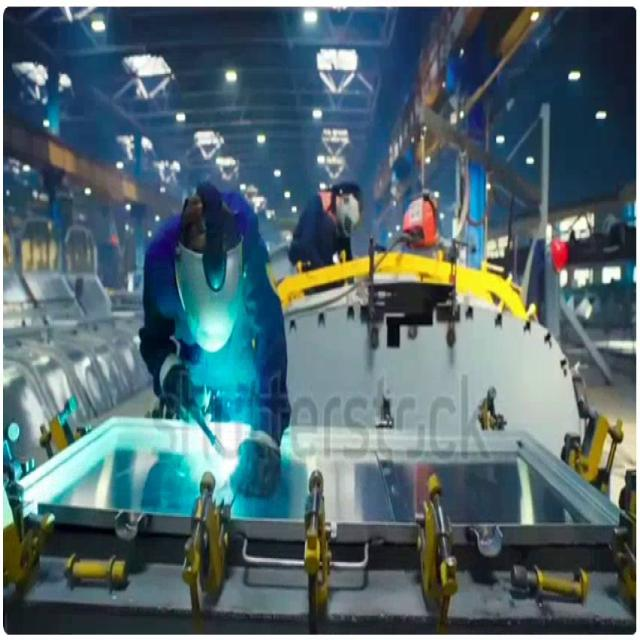gloved: (229, 436, 280, 498), (160, 361, 194, 415)
